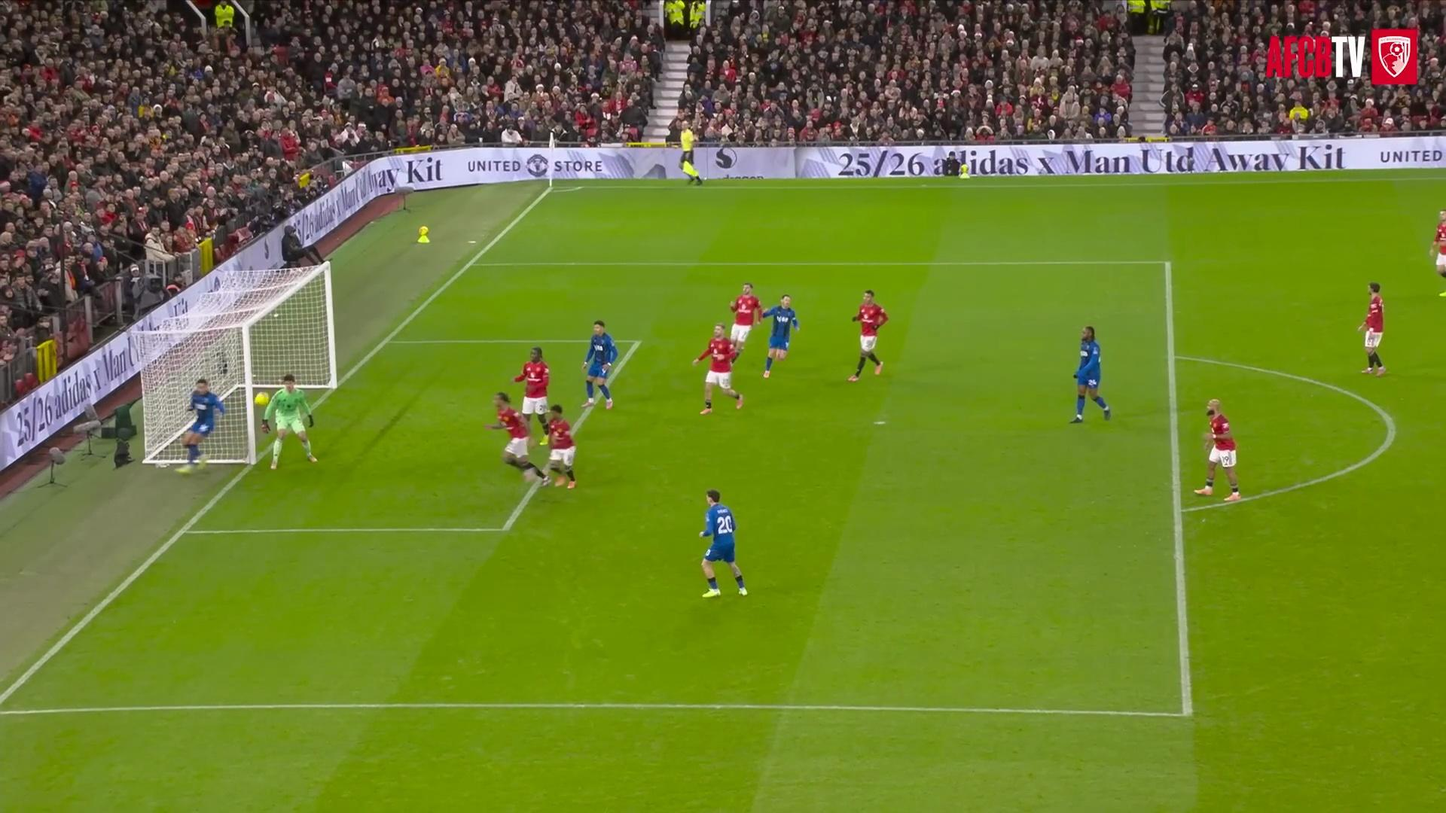football: (254, 392, 270, 406)
player: (485, 392, 550, 485), (262, 374, 316, 469), (700, 489, 747, 598), (1194, 399, 1241, 501), (693, 323, 743, 413), (178, 379, 224, 473), (1071, 326, 1110, 422), (848, 290, 888, 381), (514, 347, 549, 445), (582, 320, 618, 409), (762, 294, 800, 377), (1359, 282, 1386, 376), (548, 405, 575, 488), (730, 283, 761, 352), (1432, 209, 1445, 279)
referee: (680, 124, 703, 184)
